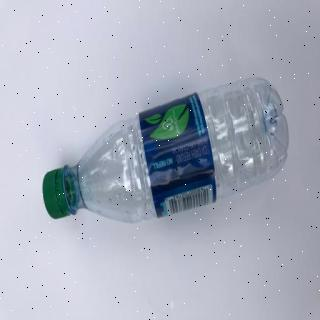Plastic-bottle: (41, 74, 292, 227)
